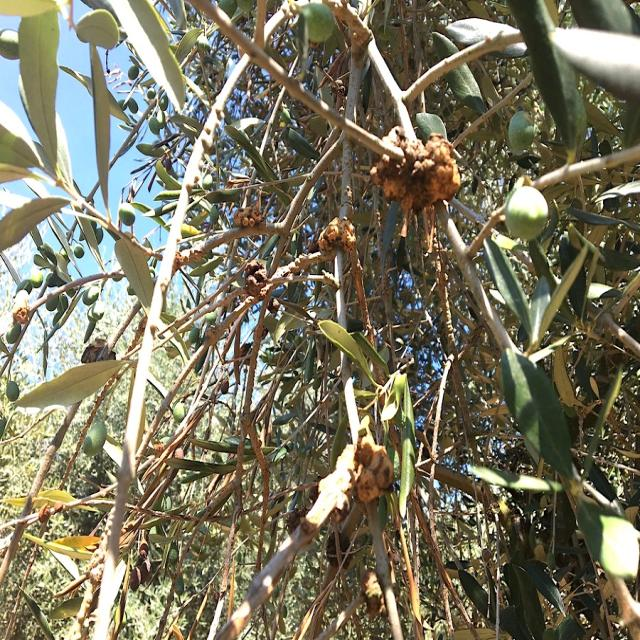Tuberculosis: (370, 126, 460, 216), (355, 435, 394, 503), (318, 217, 356, 255), (242, 261, 270, 300), (234, 203, 263, 227)
